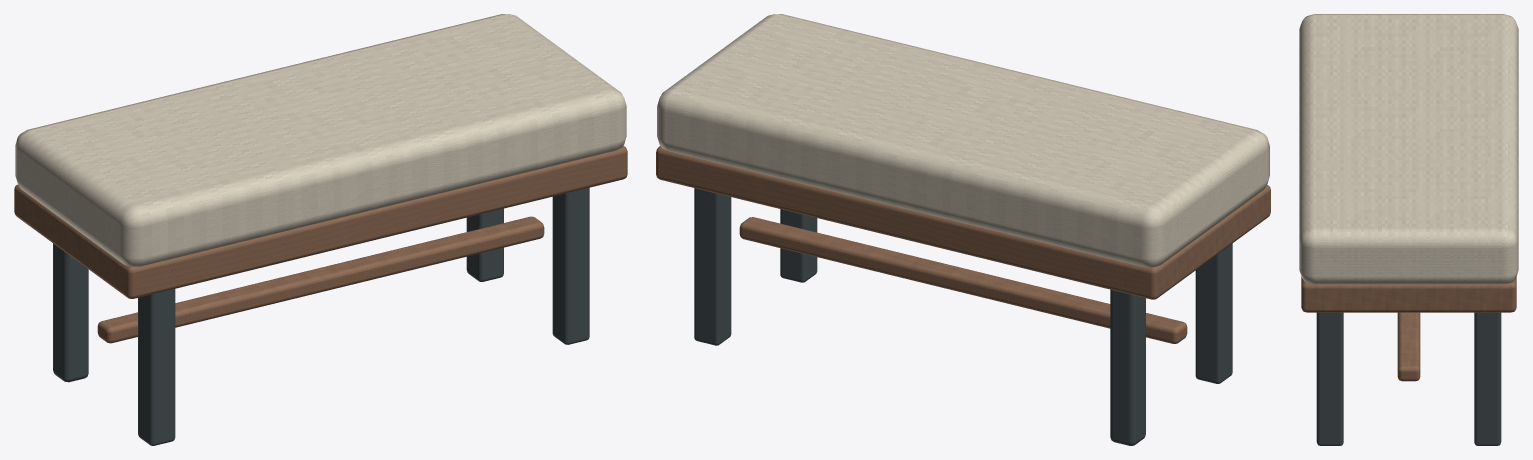
The model's file is bench_cushion.glb.
3 views of the same model, side by side, from view 1: azimuth 30°, elevation 25°; view 2: azimuth 150°, elevation 25°; view 3: azimuth 270°, elevation 25° (orthographic). The views are drawn at different scales.
Parts seen in each view (by area): view 1: BenchCushion, BenchRail, BenchCrossbar, _MeshInstance3D_33, _MeshInstance3D_35, BenchLeg, _MeshInstance3D_34; view 2: BenchCushion, BenchRail, BenchCrossbar, _MeshInstance3D_34, BenchLeg, _MeshInstance3D_33, _MeshInstance3D_35; view 3: BenchCushion, BenchRail, _MeshInstance3D_34, _MeshInstance3D_35, BenchCrossbar.
Boxes of the visible parts, left/top/right/bottom form: BenchCushion: left=15, top=14, right=626, bottom=266; BenchRail: left=14, top=146, right=627, bottom=298; BenchCrossbar: left=97, top=216, right=544, bottom=343; _MeshInstance3D_33: left=138, top=289, right=175, bottom=445; _MeshInstance3D_35: left=552, top=187, right=589, bottom=344; BenchLeg: left=53, top=243, right=88, bottom=382; _MeshInstance3D_34: left=466, top=208, right=503, bottom=281; BenchCushion: left=657, top=14, right=1269, bottom=267; BenchRail: left=656, top=146, right=1270, bottom=299; BenchCrossbar: left=739, top=217, right=1187, bottom=343; _MeshInstance3D_34: left=694, top=188, right=731, bottom=345; BenchLeg: left=1110, top=289, right=1145, bottom=445; _MeshInstance3D_33: left=1195, top=243, right=1232, bottom=383; _MeshInstance3D_35: left=780, top=209, right=817, bottom=282; BenchCushion: left=1299, top=14, right=1518, bottom=284; BenchRail: left=1301, top=276, right=1516, bottom=312; _MeshInstance3D_34: left=1474, top=312, right=1501, bottom=445; _MeshInstance3D_35: left=1316, top=312, right=1343, bottom=445; BenchCrossbar: left=1397, top=312, right=1420, bottom=381.
Size of the model in its own units: 1.29 by 0.605 by 0.53.
Materials: 3 (2 with a texture image).
